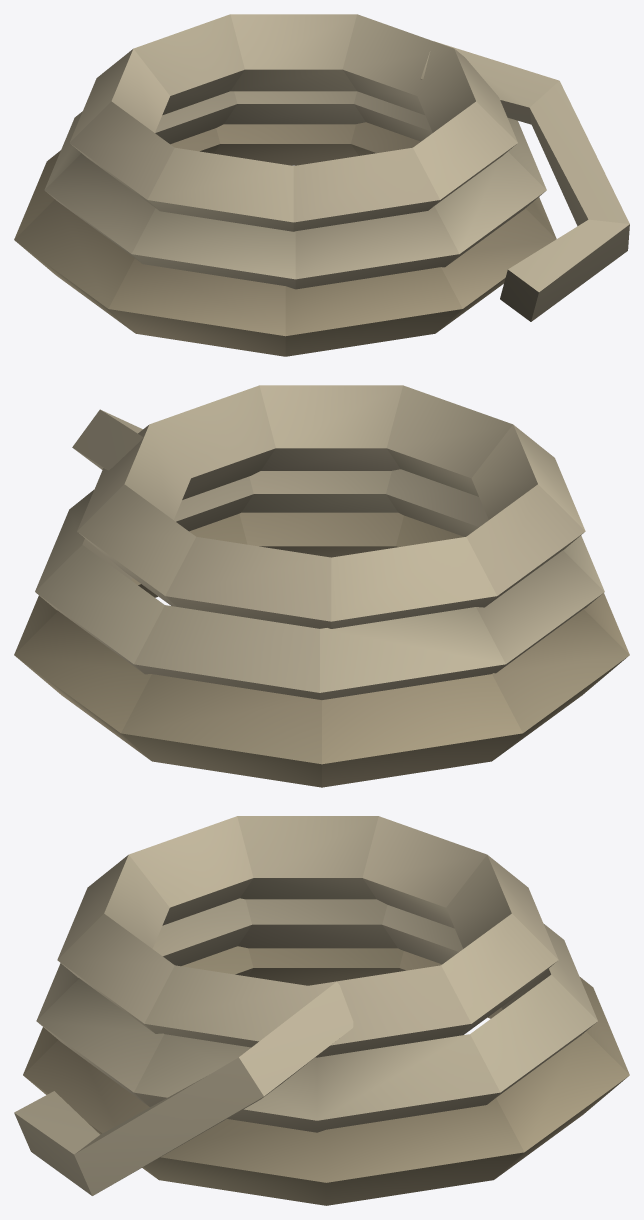
File: rope.lod1.glb
3 renders of one model, top to bottom at view 1: azimuth 30°, elevation 25°; view 2: azimuth 150°, elevation 25°; view 3: azimuth 270°, elevation 25°, orthographic. The views are drawn at different scales.
Size of the model in its own units: 0.7956 by 0.284 by 0.8033.
